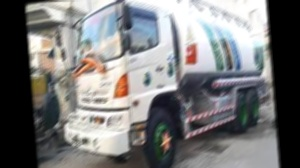truck: (56, 0, 273, 168)
